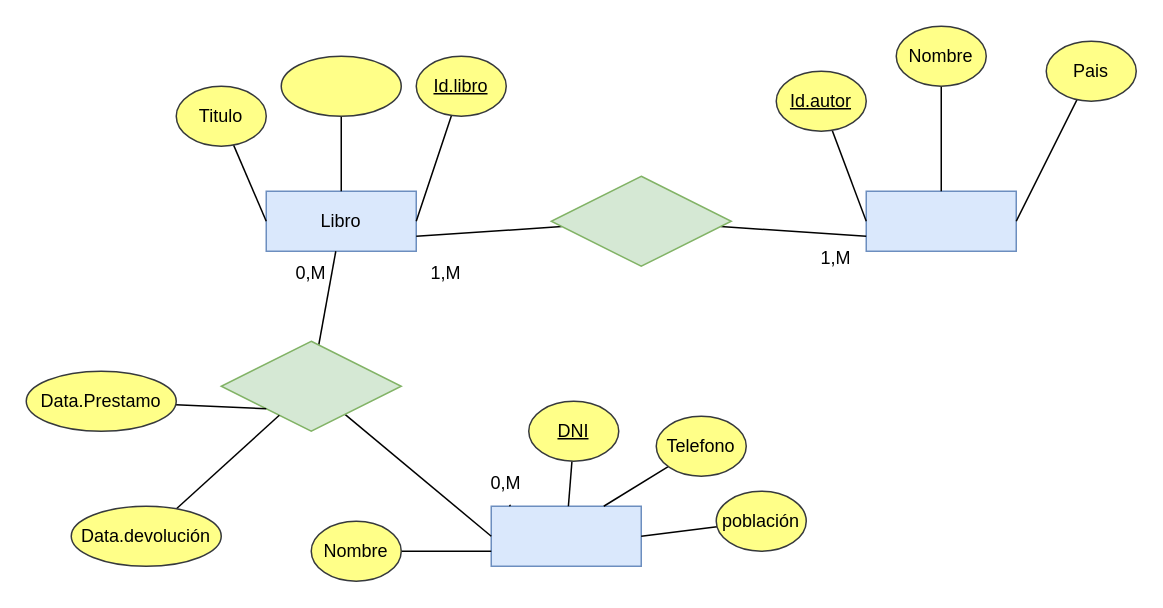
Some shapes in this 1163 by 608 pixel diagram are drawn without their labels. The centre of each missing label's shape, as x and y in pixels:
Autor: (x=940, y=220)
Año publicacion: (x=340, y=85)
Cliente: (x=565, y=535)
es de: (x=640, y=220)
prestamo: (x=310, y=385)
